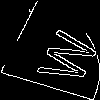W: (24, 25, 100, 86)
